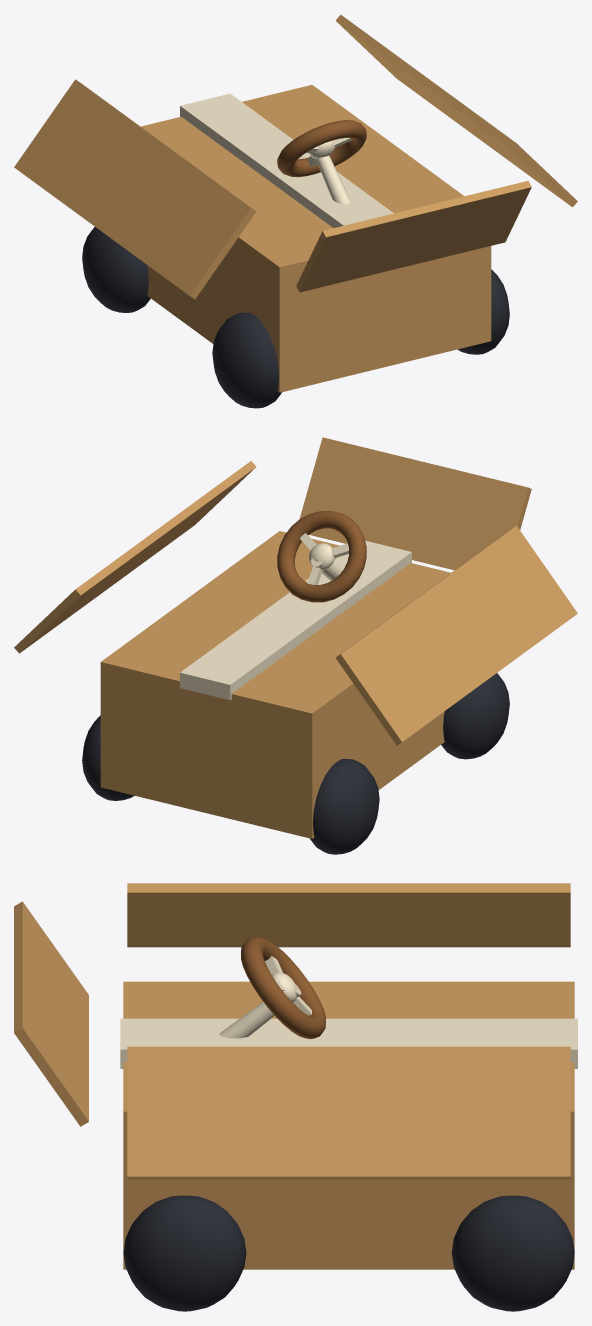
The model's file is kart-box.glb.
3 renders of one model, top to bottom at view 1: azimuth 30°, elevation 25°; view 2: azimuth 150°, elevation 25°; view 3: azimuth 270°, elevation 25°, orthographic. The views are drawn at different scales.
Visible parts, largest first — view 1: kart-box; view 2: kart-box; view 3: kart-box.
Part boxes in pixels (<box>): kart-box: <box>14,14,577,408</box>; kart-box: <box>14,437,577,854</box>; kart-box: <box>14,883,577,1311</box>.
Size of the model in its own units: 2.75 by 1.6 by 2.75.
